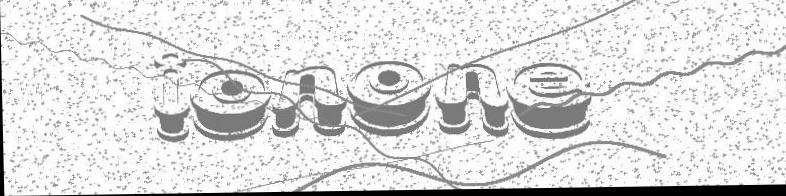e: (507, 63, 592, 142)
i: (151, 52, 191, 143)
n: (269, 65, 346, 141), (433, 63, 510, 139)
o: (346, 60, 431, 139), (191, 70, 272, 143)
